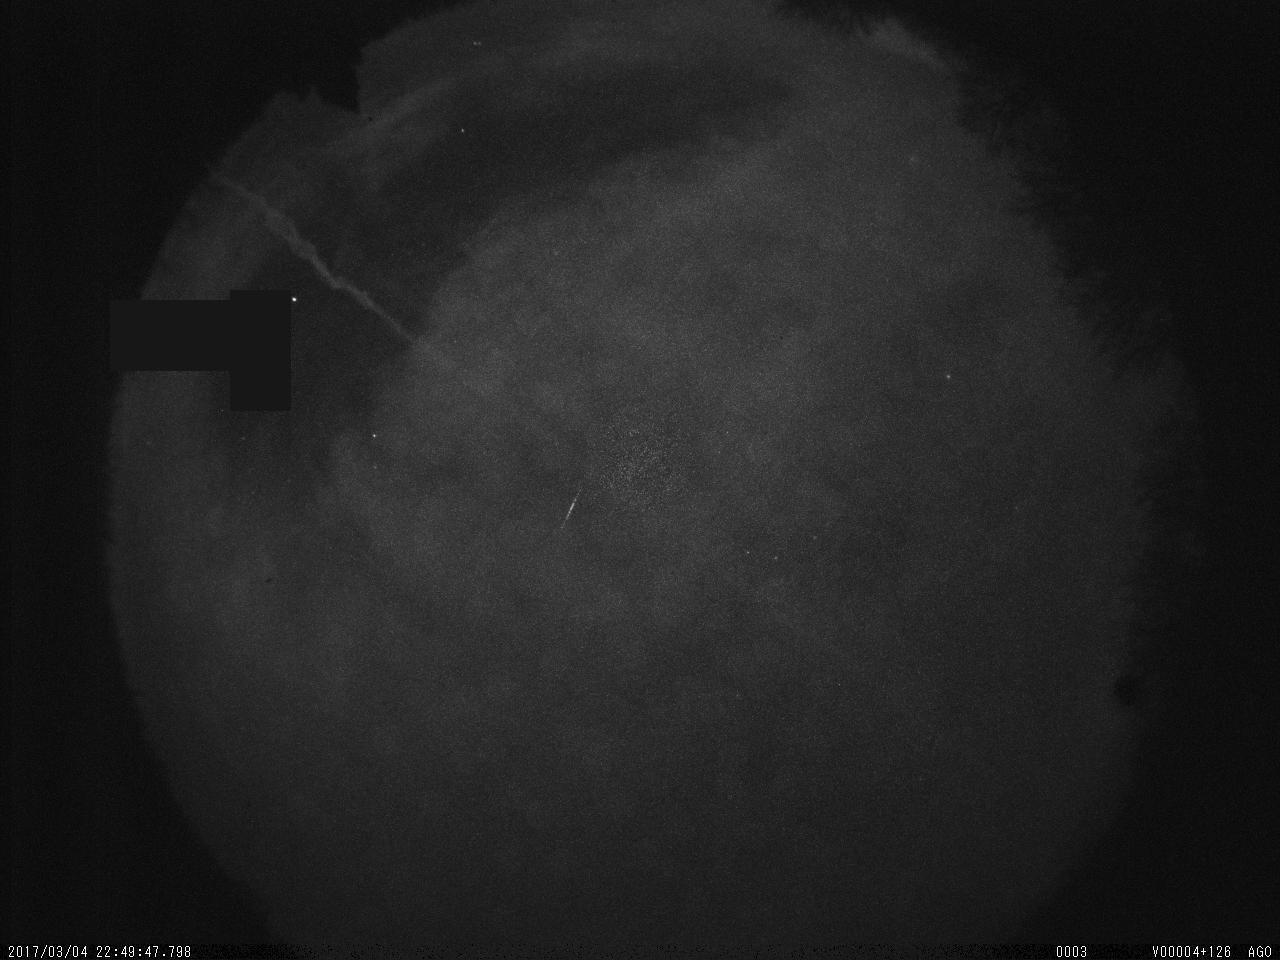meteor: (556, 479, 591, 536)
